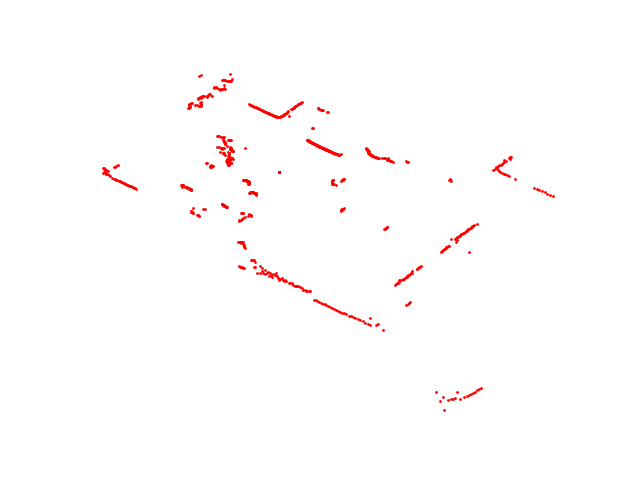person: (240, 176, 260, 199), (329, 176, 347, 189)
